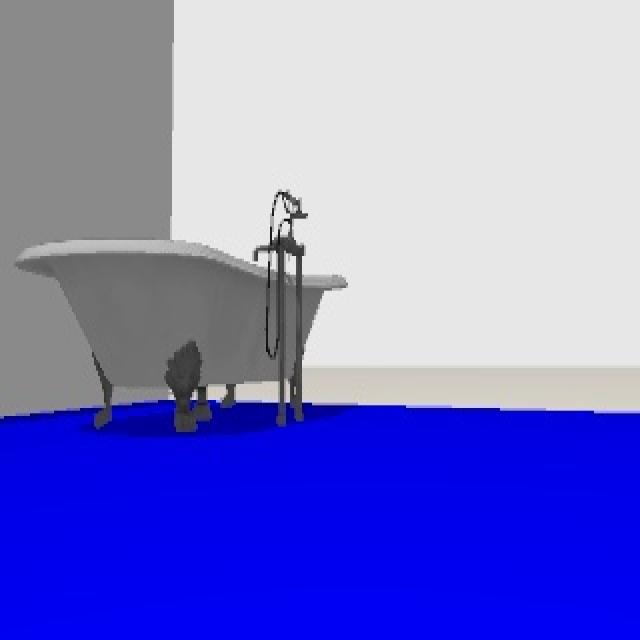bathtub: (16, 182, 348, 433)
